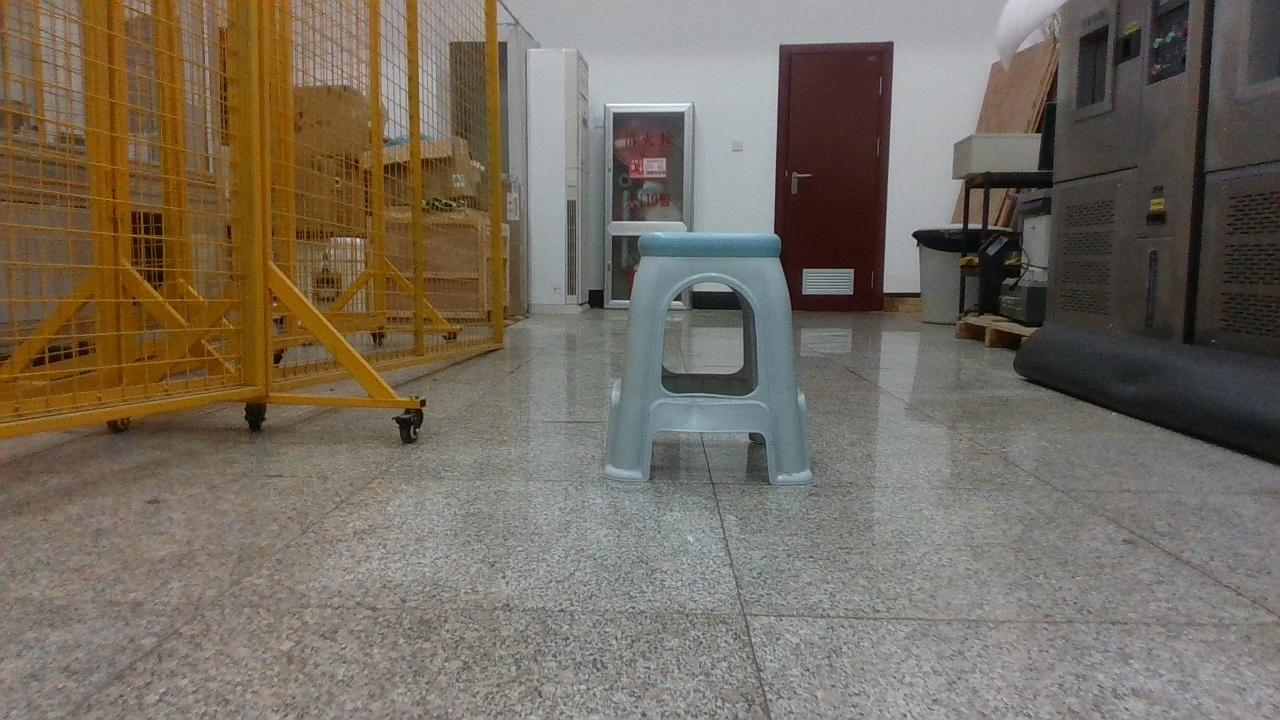stool: (602, 232, 812, 484)
